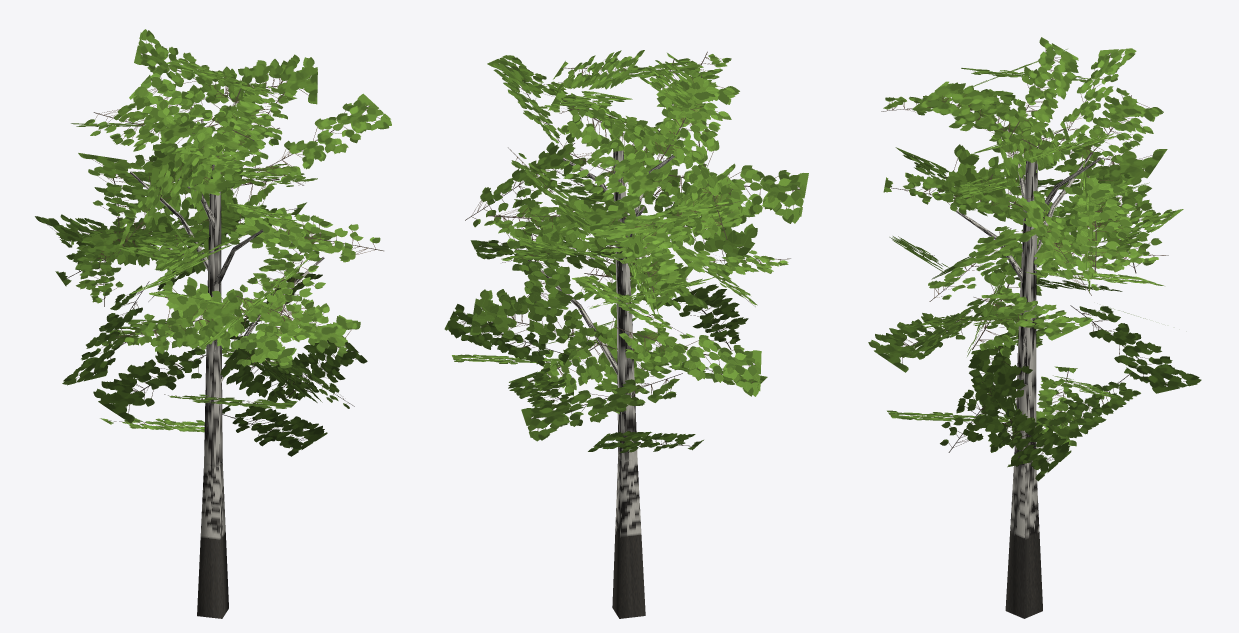
Rendered from mid.glb.
The picture shows the model from 3 angles, left to right: view 1: azimuth 30°, elevation 25°; view 2: azimuth 150°, elevation 25°; view 3: azimuth 270°, elevation 25°; orthographic projection. The views are drawn at different scales.
Parts seen in each view (by area): view 1: birch_03; view 2: birch_03; view 3: birch_03.
Part boxes in pixels (box(x1,y1,x2,y2)): birch_03: box(35, 29, 391, 618); birch_03: box(444, 50, 808, 618); birch_03: box(868, 37, 1201, 618).
Size of the model in its own units: 9.17 by 14.52 by 8.56.
2 materials, 2 textured.
